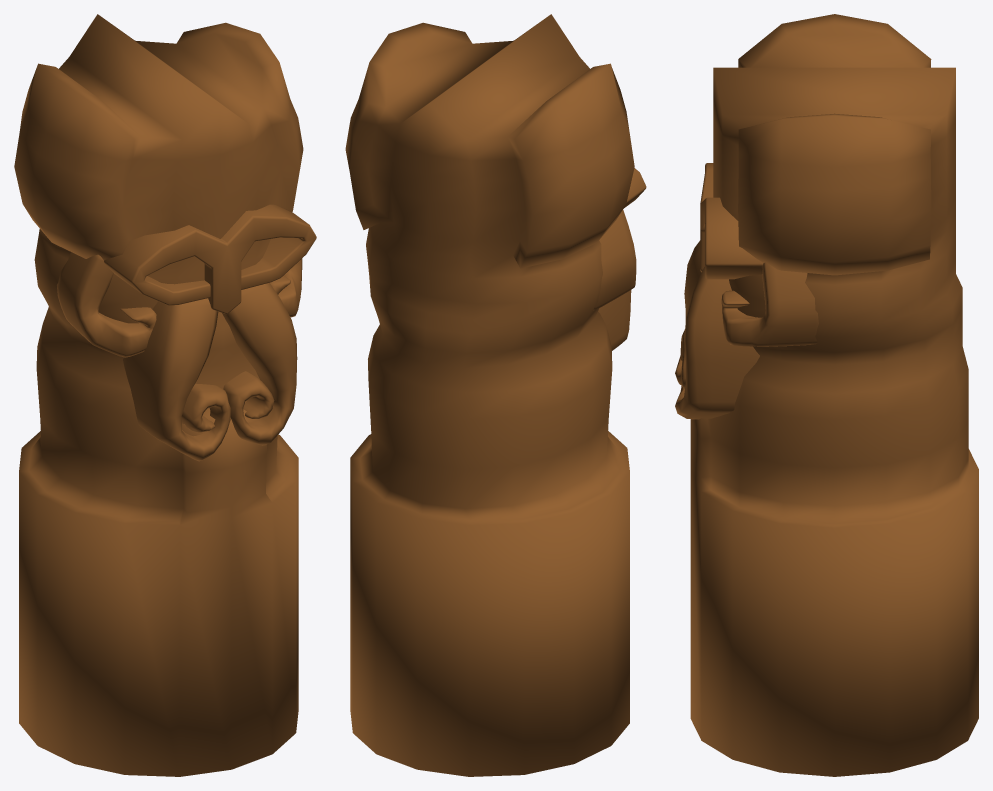
The model's file is AsgardStatues.glb.
3 views of the same model, side by side, from view 1: azimuth 30°, elevation 25°; view 2: azimuth 150°, elevation 25°; view 3: azimuth 270°, elevation 25° (orthographic).
Visible parts, largest first — view 1: Low, Cube.002, Cube, Cube.001; view 2: Low, Cube.001, Cube.002; view 3: Low, Cube.002, Cube.001, Cube.
Boxes of the visible parts, x1,y1,x2,y2 form: Low: [14, 14, 303, 776]; Cube.002: [123, 283, 297, 461]; Cube: [104, 204, 316, 314]; Cube.001: [57, 252, 302, 357]; Low: [345, 14, 634, 776]; Cube.001: [593, 209, 636, 310]; Cube.002: [598, 290, 631, 350]; Low: [690, 14, 978, 776]; Cube.002: [675, 240, 759, 419]; Cube.001: [721, 262, 818, 346]; Cube: [700, 163, 763, 279].
Bounding box in the file's own units: 8.1 × 20.15 × 8.47.
